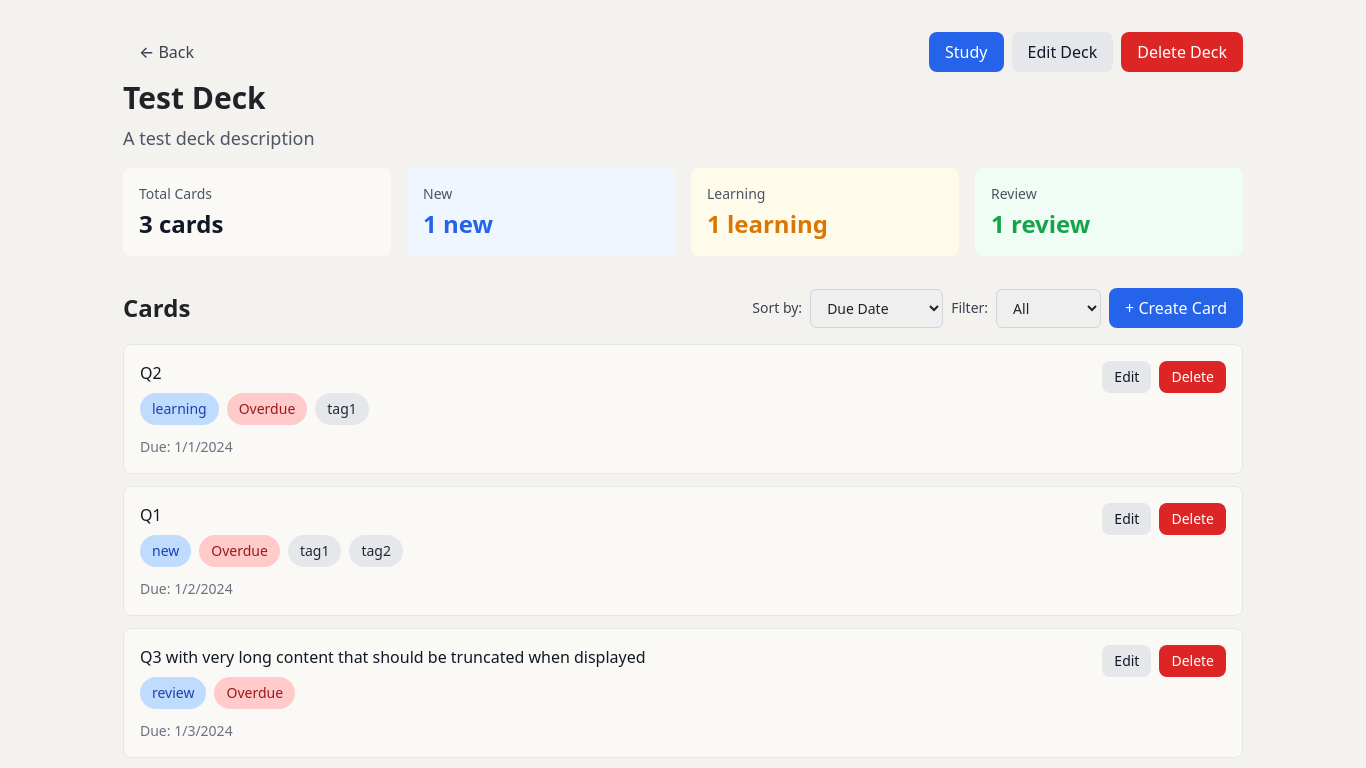
DeckDetailPage › sort and filter functionality › shows all cards when filter is set to all
Select "New" in the dropdown with test id "filter-select" at [1049, 308], box [996,288,1101,328]
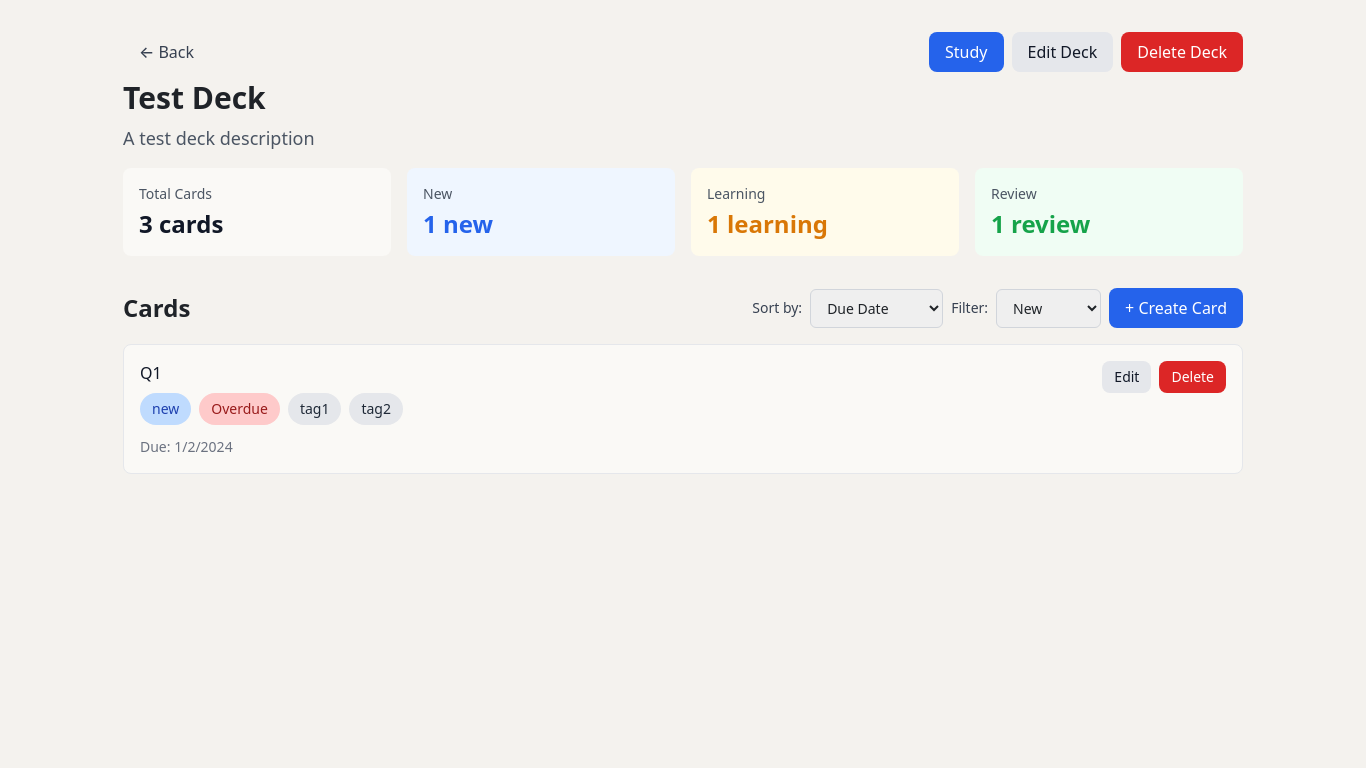
Now the number of elements with test id "card-item" is 1, box [123,344,1243,474]
Select "All" in the dropdown with test id "filter-select" at [1049, 308], box [996,288,1101,328]
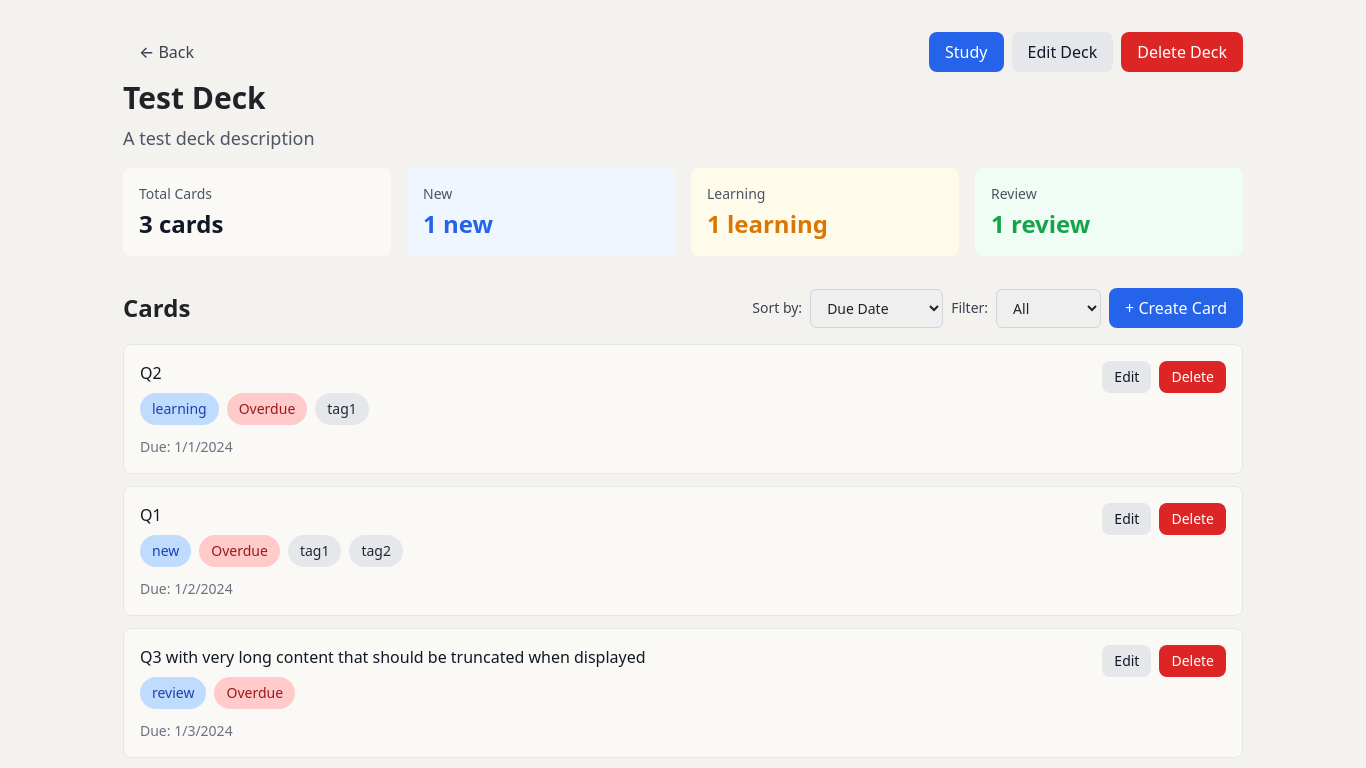
Now the number of elements with test id "card-item" is 3, box [123,344,1243,474]; [123,486,1243,616]; [123,628,1243,758]
